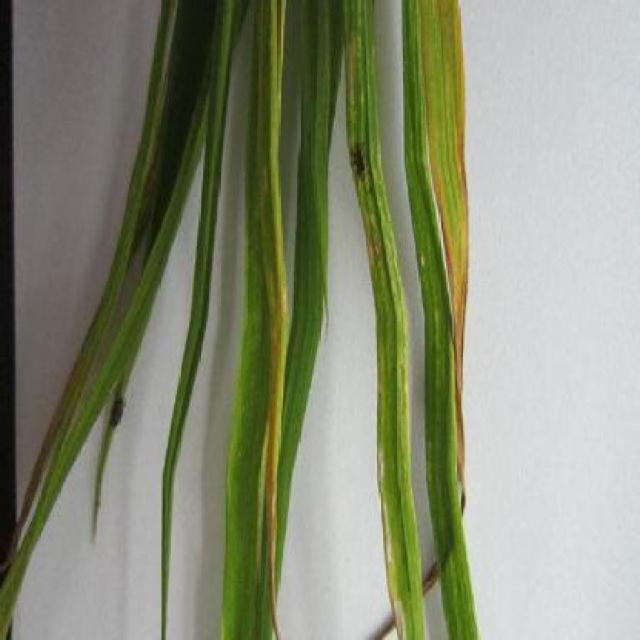rice-bug: (351, 138, 369, 177), (108, 392, 125, 430)
